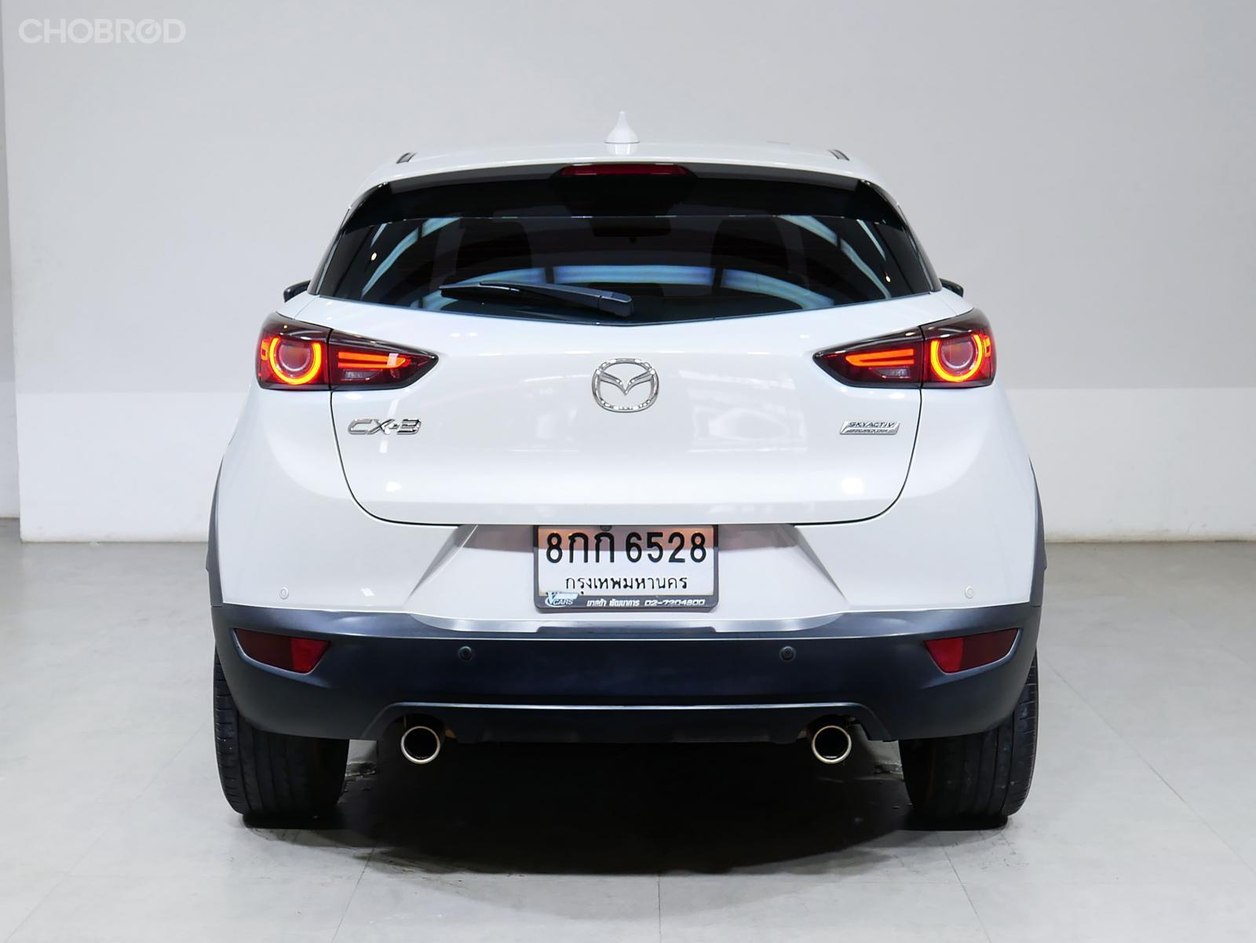license-plate: (532, 520, 720, 611)
